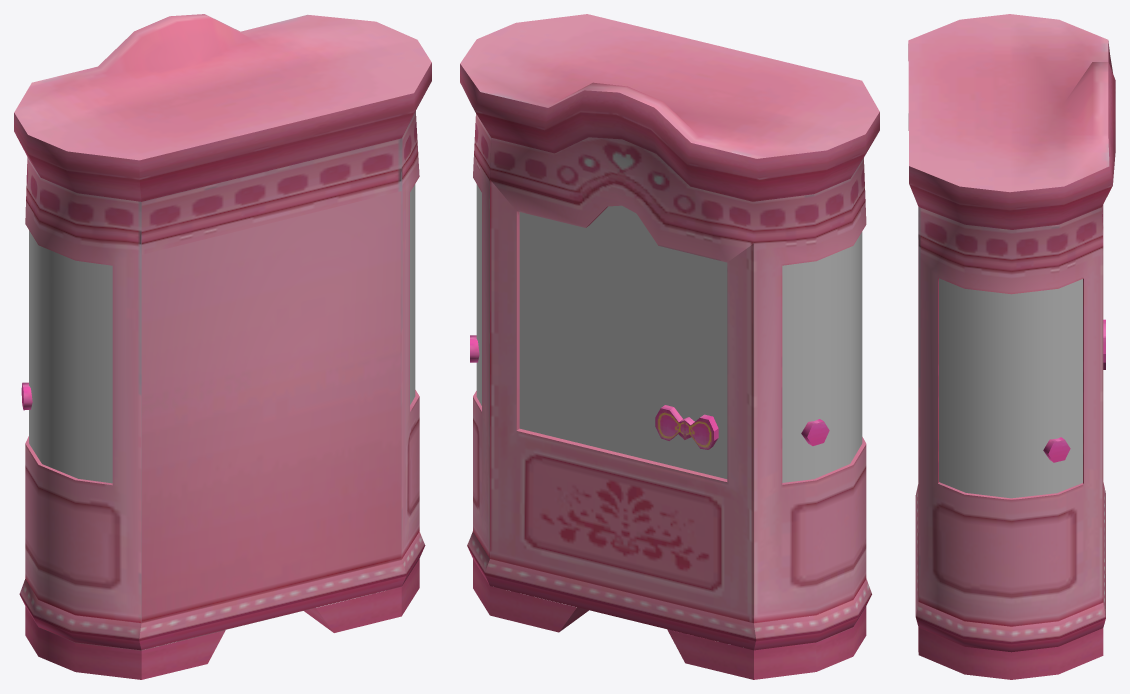
File: furni_0200032_02.FBX
3 views of the same model, side by side, from view 1: azimuth 30°, elevation 25°; view 2: azimuth 150°, elevation 25°; view 3: azimuth 270°, elevation 25° (orthographic). The views are drawn at different scales.
Visible parts, largest first — view 1: furni_0200032; view 2: furni_0200032; view 3: furni_0200032.
Boxes of the visible parts, box(x1,y1,x2,y2) form: furni_0200032: box(14, 14, 431, 679); furni_0200032: box(460, 14, 879, 679); furni_0200032: box(908, 14, 1115, 679).
Size of the model in its own units: 161 by 220 by 79.
